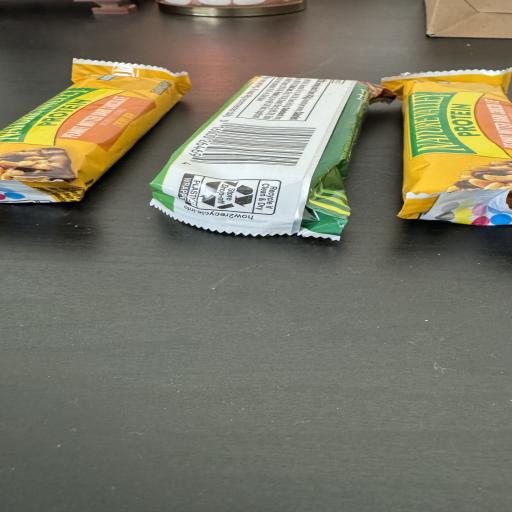granola: (151, 77, 393, 239), (0, 60, 190, 202), (383, 69, 511, 225)
